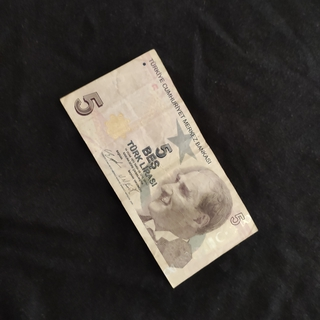5TLFront: (59, 47, 260, 288)
